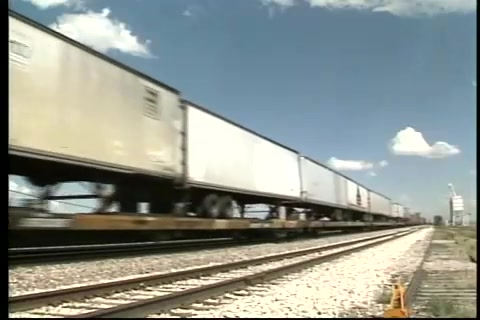train: (10, 7, 411, 241)
